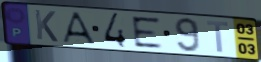4: (101, 11, 130, 50)
9: (173, 16, 202, 54)
A: (61, 11, 98, 46)
E: (130, 15, 165, 49)
K: (33, 8, 60, 44)
T: (205, 20, 230, 54)
